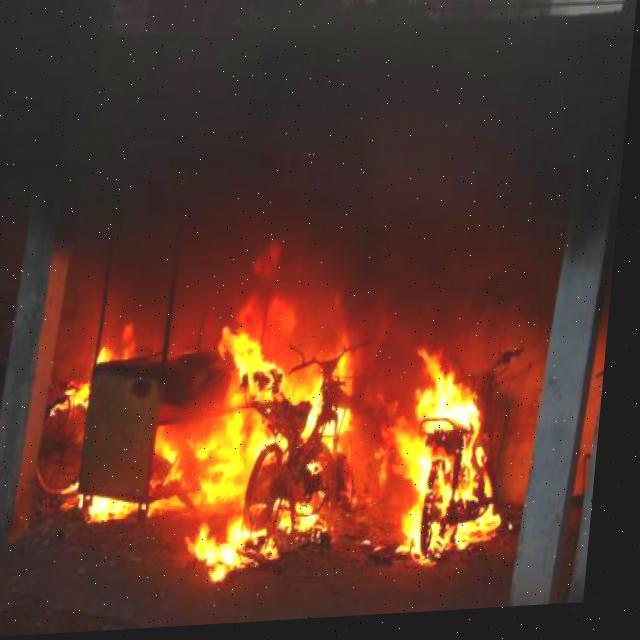Fire: (59, 266, 530, 591)
